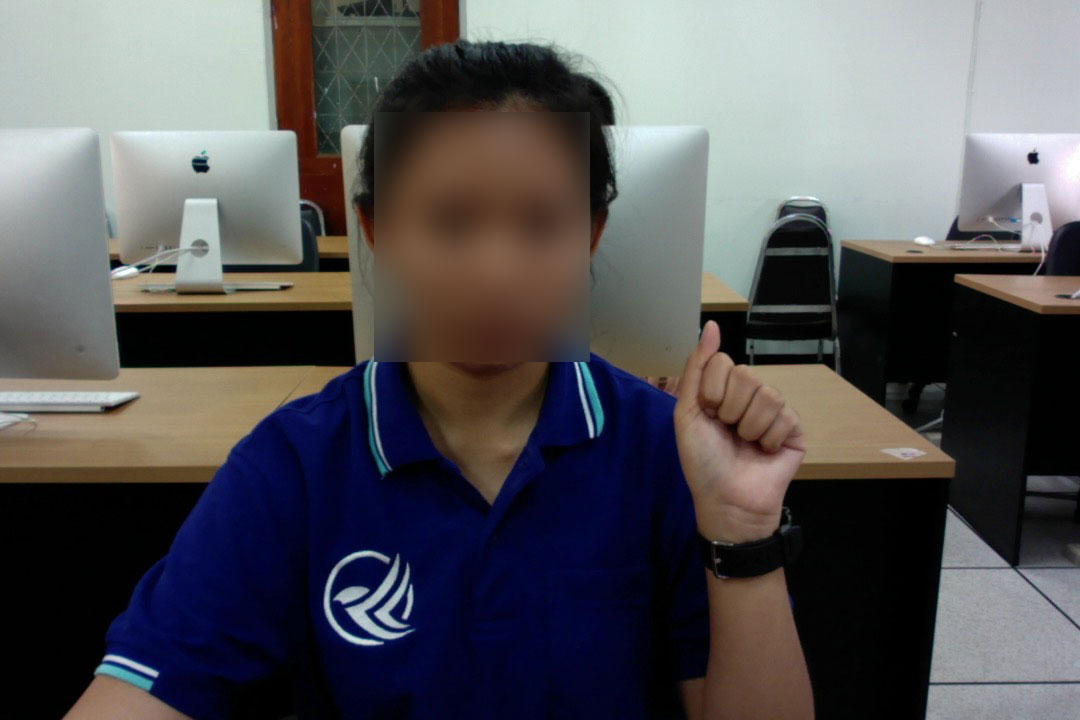or: (662, 309, 814, 536)
